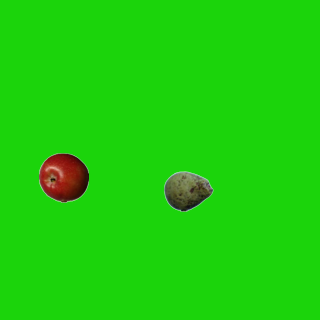Apple Braeburn: (38, 152, 88, 202)
Pear Stone: (163, 166, 213, 216)
